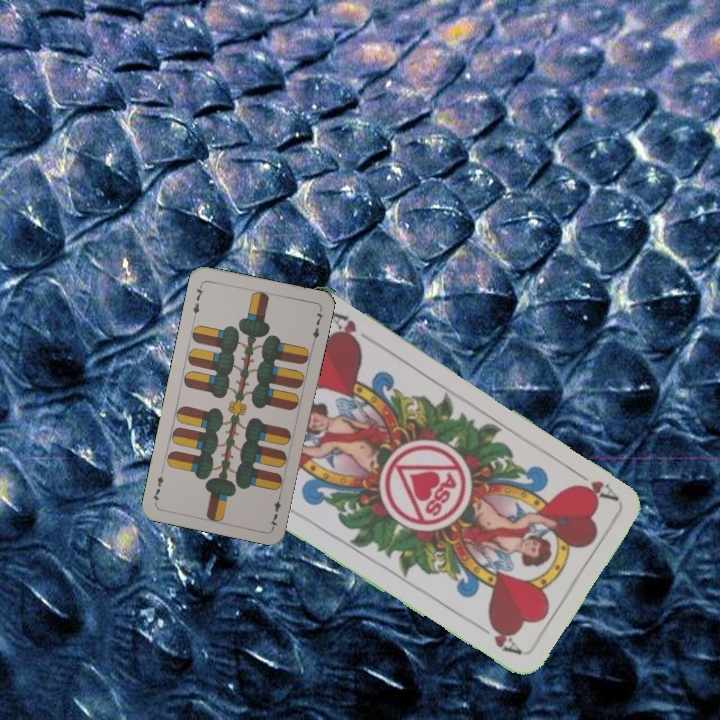E7: (266, 489, 284, 530), (189, 280, 206, 320)
HA: (567, 464, 620, 503)
